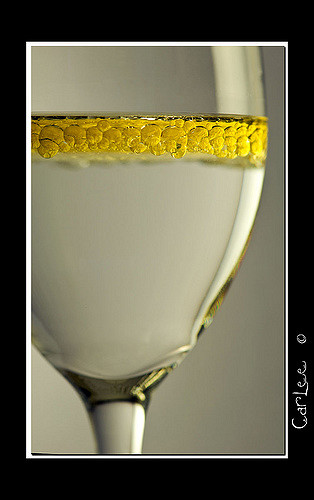glass of water: (42, 100, 219, 452)
